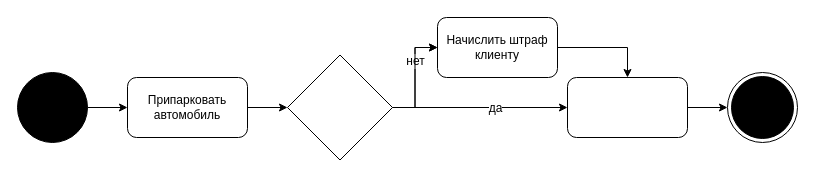
Image size: 815x178. Some labels were removed from this diagram. Here are the shapes that lost their labels. From the top down, the box of each, then its label:
(286, 54, 392, 160): Авто в разрешённой зоне?
(566, 76, 688, 138): Рассчитать стоимость и завершить аренду
